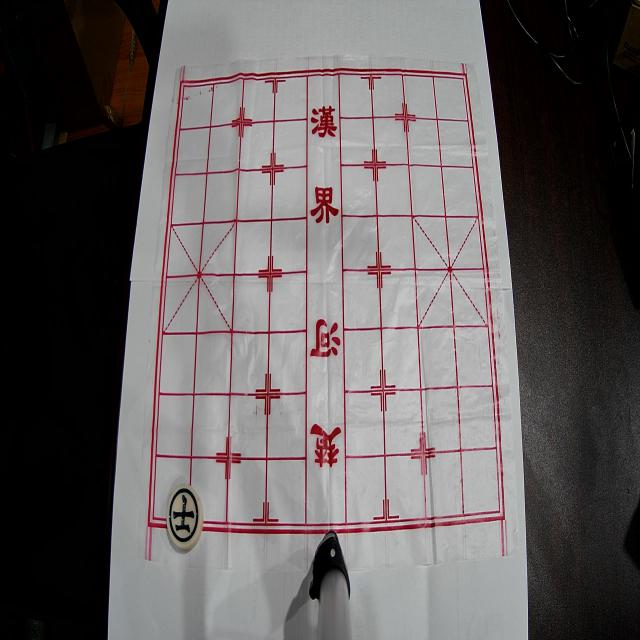black-guard: (166, 484, 204, 550)
